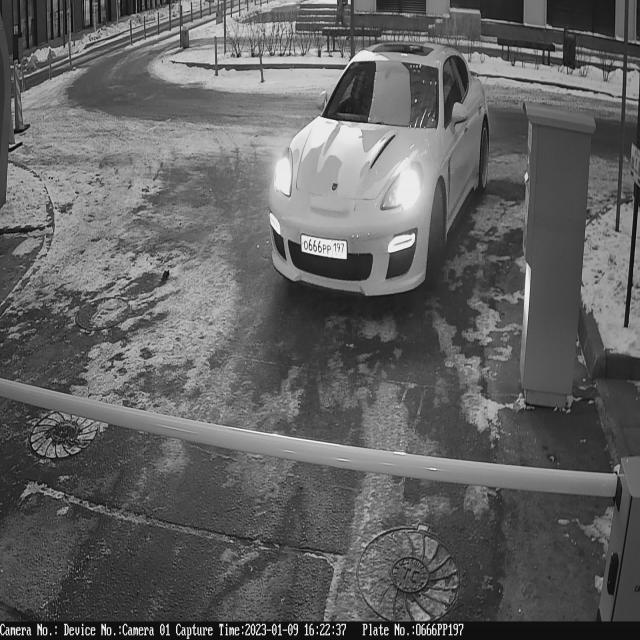car-plate-numbers: (299, 232, 351, 267)
